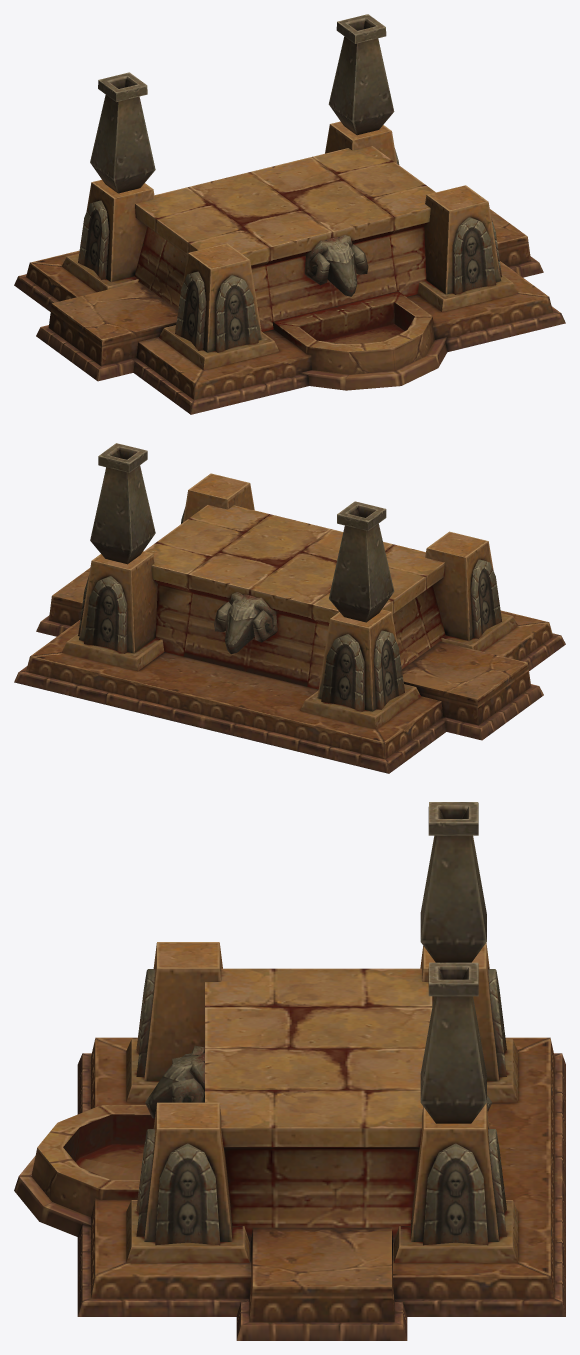
File: shakian_object_altar_01.FBX
The picture shows the model from 3 angles, top to bottom: view 1: azimuth 30°, elevation 25°; view 2: azimuth 150°, elevation 25°; view 3: azimuth 270°, elevation 25°; orthographic projection. The views are drawn at different scales.
Visible parts, largest first — view 1: shakian_object_altar_01; view 2: shakian_object_altar_01; view 3: shakian_object_altar_01.
Part boxes in pixels (bbox=[...]): shakian_object_altar_01: bbox=[14, 14, 565, 414]; shakian_object_altar_01: bbox=[14, 443, 565, 773]; shakian_object_altar_01: bbox=[14, 802, 565, 1340].
Bounding box in the file's own units: 8.27 × 3.82 × 6.42.
